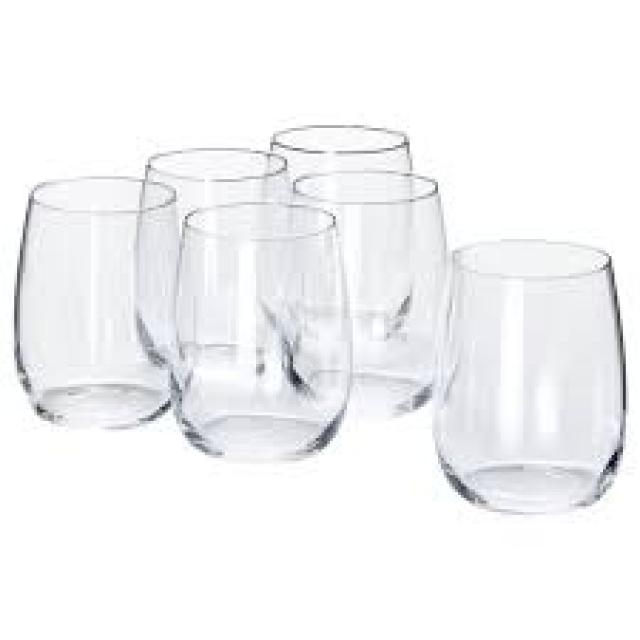glass: (438, 239, 620, 509), (171, 199, 347, 458), (14, 176, 185, 427), (290, 168, 441, 415), (262, 122, 410, 350), (134, 145, 290, 361)
